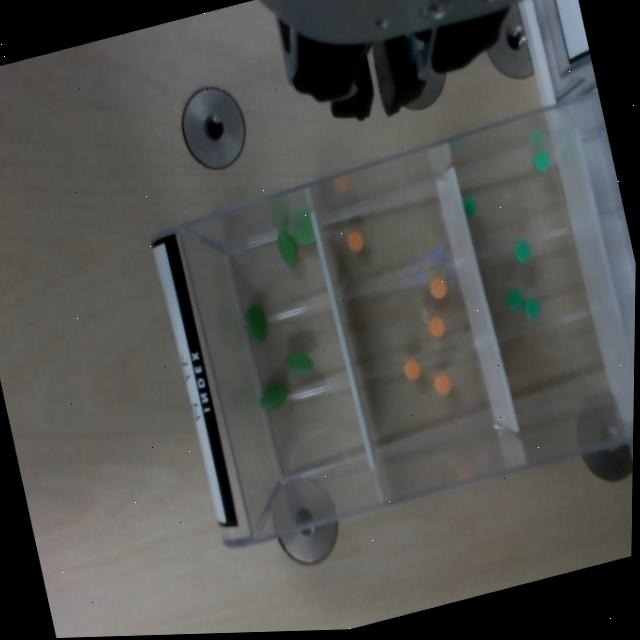famodine: (531, 146, 554, 174), (512, 238, 535, 264), (522, 295, 543, 323), (504, 287, 526, 312), (461, 194, 478, 219)
otillen_tab: (256, 379, 292, 414), (243, 303, 269, 345), (274, 227, 299, 270), (283, 349, 315, 379), (290, 223, 317, 247)
samsung_octylonium_tab: (432, 371, 454, 397), (428, 276, 448, 301), (345, 229, 364, 254), (403, 359, 423, 382), (427, 315, 446, 339)
